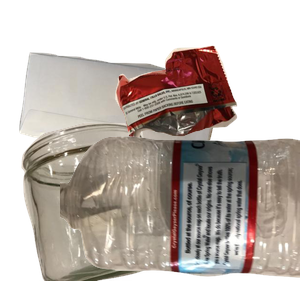glass: (19, 120, 184, 300)
paper: (17, 50, 231, 230)
plastic: (60, 134, 300, 300)
trash: (113, 43, 300, 181)
